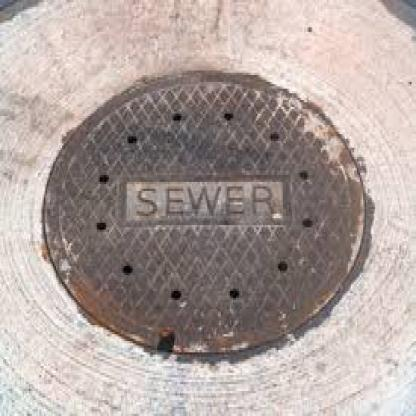closed manhole-not overflowing-: (39, 78, 373, 359)
